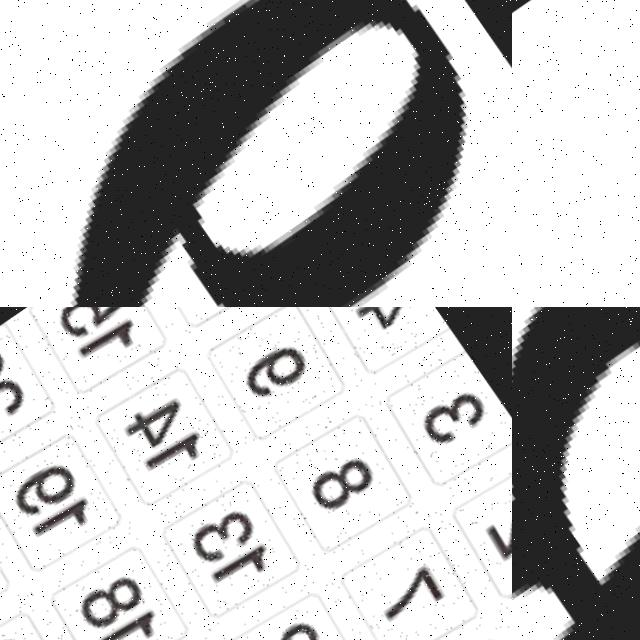0: (0, 331, 19, 414)
1: (194, 529, 291, 611), (16, 484, 106, 561), (132, 425, 212, 493), (70, 310, 148, 378), (89, 597, 175, 640)
2: (470, 483, 512, 572), (0, 363, 42, 448), (244, 604, 335, 640)
3: (405, 375, 497, 463), (171, 494, 264, 579)
4: (108, 384, 198, 466), (344, 307, 430, 347)
5: (44, 307, 137, 353)
7: (362, 560, 450, 638)
8: (63, 554, 162, 640), (295, 440, 388, 527)
9: (0, 0, 512, 307), (229, 334, 322, 419), (0, 446, 86, 533)
F: (512, 0, 640, 307)
R: (512, 307, 640, 640)
